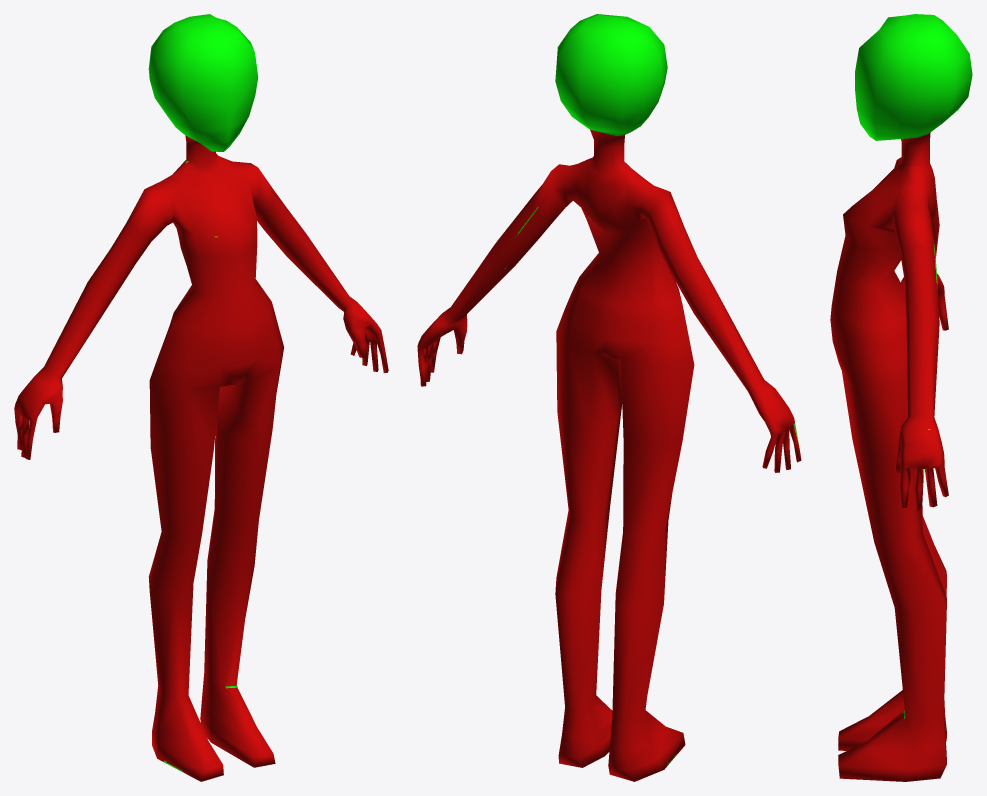
Rendered from persal.glb.
3 views of the same model, side by side, from view 1: azimuth 30°, elevation 25°; view 2: azimuth 150°, elevation 25°; view 3: azimuth 270°, elevation 25° (orthographic). The views are drawn at different scales.
Visible parts, largest first — view 1: Cylinder; view 2: Cylinder; view 3: Cylinder.
Part boxes in pixels (x1,y1,x2,y2): Cylinder: [14, 14, 388, 781]; Cylinder: [417, 14, 801, 781]; Cylinder: [830, 14, 972, 781].
Bounding box in the file's own units: 2.33 × 4.44 × 0.7746.
1 material, 1 textured.
